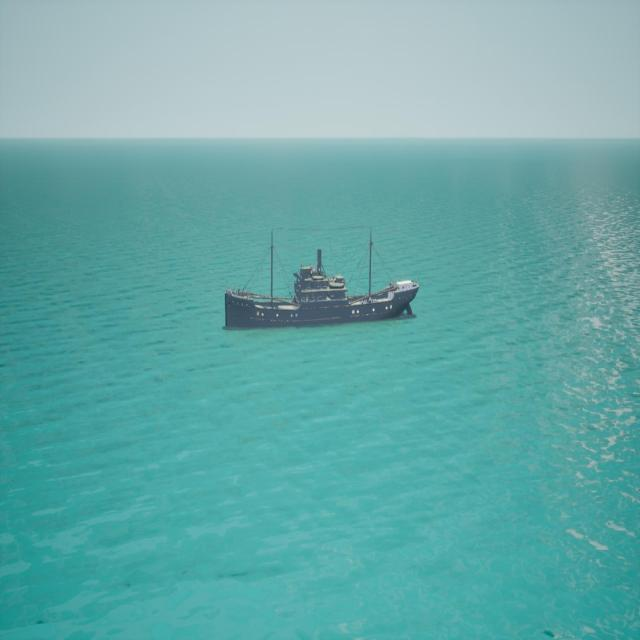fishing ship: (227, 231, 419, 331)
